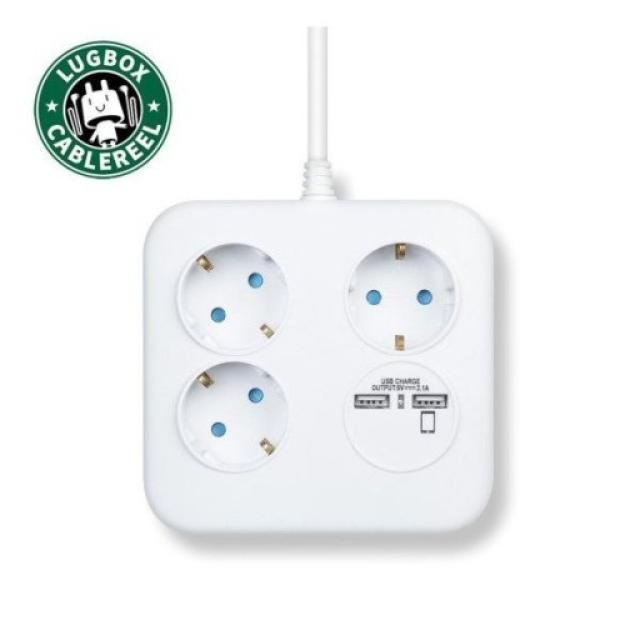typeb: (141, 190, 500, 547)
